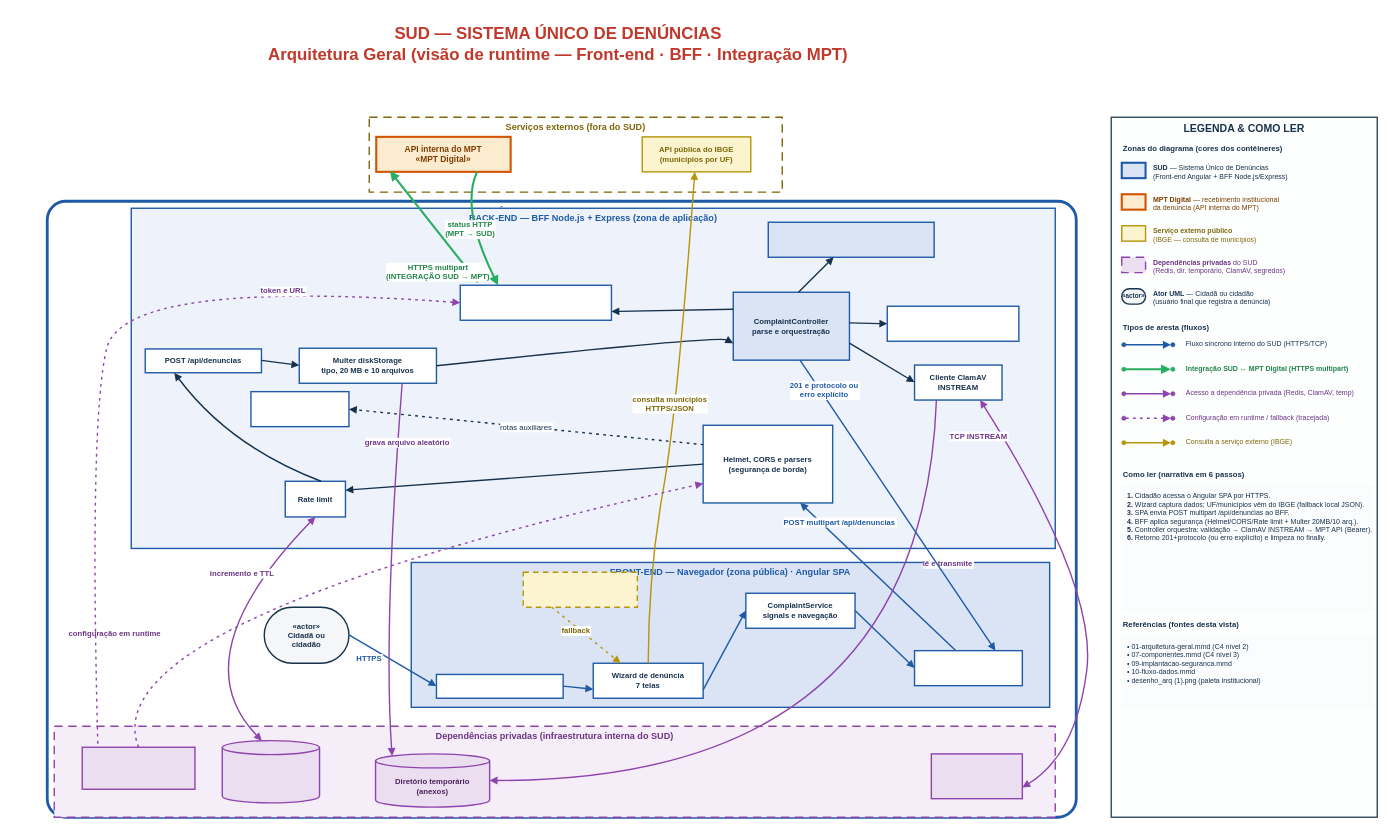
The diagram is 1390 pixels wide and 830 high, and some of its shapes have lost their labels. Each missing label, with the box of its shape:
Angular SPA standalone: (435, 673, 564, 699)
ClamAV daemon: (930, 753, 1023, 799)
ComplaintApiClient FormData e fetch: (913, 650, 1023, 686)
ComplaintService validação, protocolo e payload: (767, 221, 934, 258)
Health e Swagger: (250, 391, 349, 427)
Limpeza de temporários bloco finally: (886, 305, 1019, 342)
MPT API Client multipart, Bearer e timeout: (459, 284, 612, 321)
municipios-ibge.json fallback local: (522, 571, 638, 608)
Redis contadores e TTL: (221, 740, 320, 803)
Variáveis e segredos somente no servidor: (81, 746, 195, 790)
